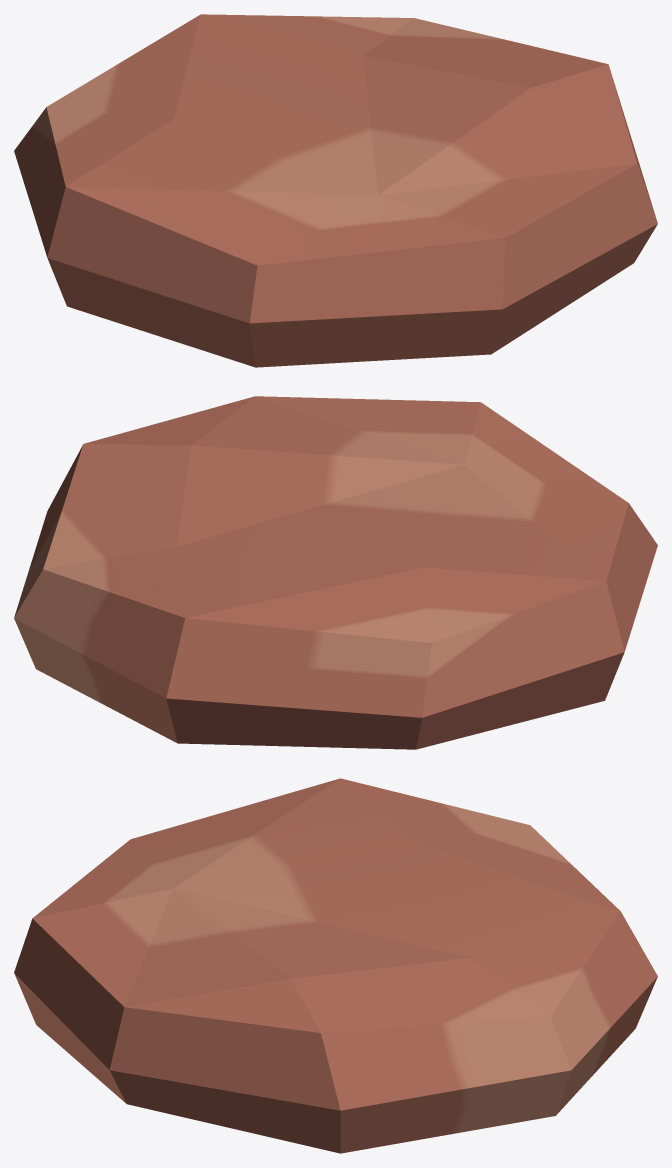
The model's file is SM_Prop_Food_Meat_Patty_Raw_01.obj.
3 renders of one model, top to bottom at view 1: azimuth 30°, elevation 25°; view 2: azimuth 150°, elevation 25°; view 3: azimuth 270°, elevation 25°, orthographic. The views are drawn at different scales.
Visible parts, largest first — view 1: SM_Prop_Food_Meat_Patty_Raw_01_0; view 2: SM_Prop_Food_Meat_Patty_Raw_01_0; view 3: SM_Prop_Food_Meat_Patty_Raw_01_0.
Part boxes in pixels (<box>): SM_Prop_Food_Meat_Patty_Raw_01_0: <box>14,14,657,367</box>; SM_Prop_Food_Meat_Patty_Raw_01_0: <box>14,396,657,749</box>; SM_Prop_Food_Meat_Patty_Raw_01_0: <box>14,778,657,1153</box>.
Bounding box in the file's own units: 0.2022 × 0.0434 × 0.1994.
Materials: 1 (1 with a texture image).
